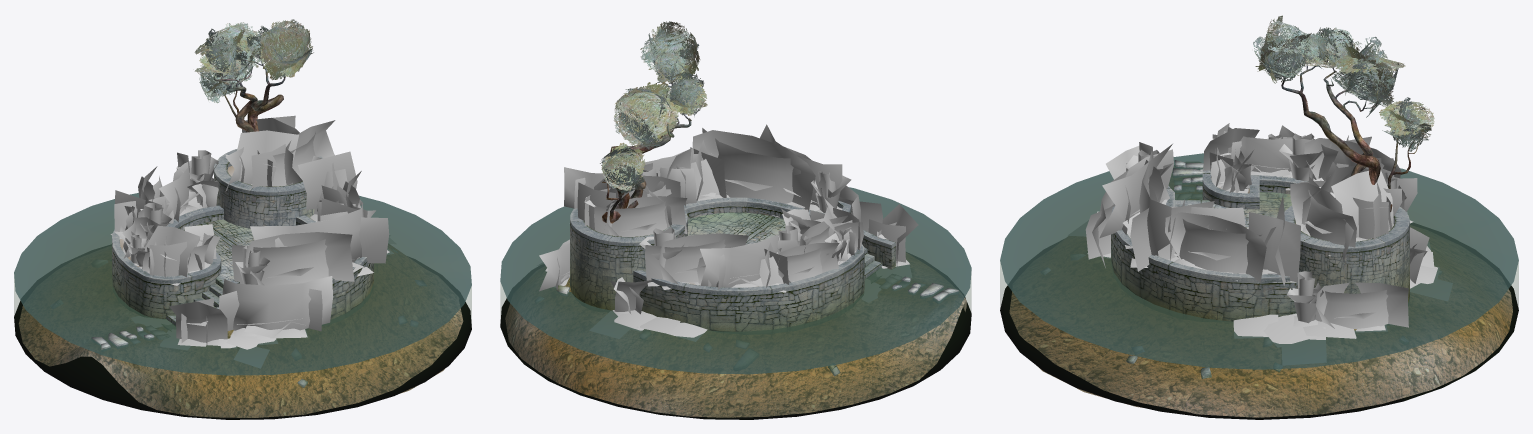
3 renders of one model, left to right at view 1: azimuth 30°, elevation 25°; view 2: azimuth 150°, elevation 25°; view 3: azimuth 270°, elevation 25°, orthographic. The views are drawn at different scales.
Parts seen in each view (by area): view 1: Circle, ground, walls, tree, grass_obj_05_01.000, grass_obj_05_01.001, grass_obj_05_02.003, grass_obj_07.002, grass_obj_07.003, grass_obj_05_02.006, grass_obj_07.001, grass_obj_01_01.002 (+19 smaller); view 2: Circle, ground, walls, tree, grass_obj_05_02.003, grass_obj_05_02.002, grass_obj_05_02.004, grass_obj_05_02.005, floor, grass_obj_05_02.000, grass_obj_01_02.001, grass_obj_07.003 (+21 smaller); view 3: Circle, ground, walls, tree, grass_obj_05_01.003, grass_obj_05_02.007, grass_obj_05_02.003, grass_obj_07.000, grass_obj_05_02.006, grass_obj_01_01.002, grass_obj_05_01.001, grass_obj_05_02.001 (+22 smaller).
Boxes of the visible parts, x1,y1,x2,y2 form: Circle: [14, 193, 471, 419]; ground: [18, 244, 463, 417]; walls: [112, 149, 373, 325]; tree: [194, 19, 313, 132]; grass_obj_05_01.000: [219, 276, 333, 338]; grass_obj_05_01.001: [232, 232, 354, 285]; grass_obj_05_02.003: [250, 203, 389, 276]; grass_obj_07.002: [234, 130, 298, 187]; grass_obj_07.003: [169, 298, 227, 346]; grass_obj_05_02.006: [272, 120, 335, 186]; grass_obj_07.001: [145, 225, 200, 285]; grass_obj_01_01.002: [298, 151, 357, 221]; Circle: [500, 187, 971, 419]; ground: [505, 253, 966, 417]; walls: [570, 197, 895, 334]; tree: [600, 21, 707, 223]; grass_obj_05_02.003: [692, 128, 815, 217]; grass_obj_05_02.002: [645, 233, 748, 289]; grass_obj_05_02.004: [700, 232, 797, 289]; grass_obj_05_02.005: [594, 196, 687, 236]; floor: [688, 212, 882, 282]; grass_obj_05_02.000: [765, 243, 839, 282]; grass_obj_01_02.001: [690, 140, 726, 201]; grass_obj_07.003: [868, 204, 918, 268]; Circle: [1000, 153, 1518, 419]; ground: [1009, 162, 1512, 417]; walls: [1111, 169, 1409, 321]; tree: [1253, 15, 1434, 211]; grass_obj_05_01.003: [1165, 212, 1266, 282]; grass_obj_05_02.007: [1313, 282, 1408, 331]; grass_obj_05_02.003: [1123, 144, 1179, 271]; grass_obj_07.000: [1331, 170, 1393, 241]; grass_obj_05_02.006: [1290, 182, 1356, 261]; grass_obj_01_01.002: [1248, 194, 1300, 285]; grass_obj_05_01.001: [1099, 142, 1173, 238]; grass_obj_05_02.001: [1223, 131, 1305, 177].
Size of the model in its own units: 14.7 by 10.1 by 14.7.
